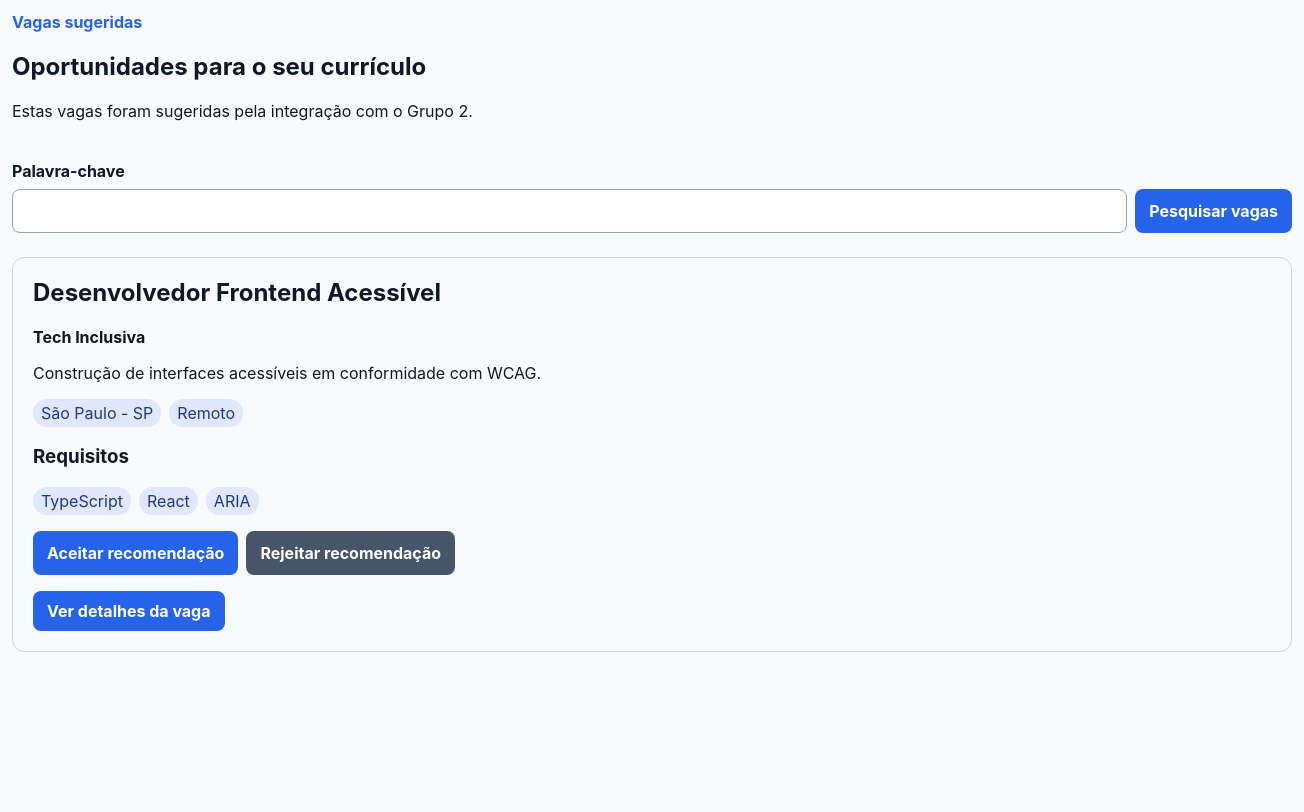
Test case: TelaVagasGrupo2 — Acessibilidade e Navegação por Teclado (a11y) › anuncia erro de salvamento de decisão com role=alert
This screenshot has width=1304, height=812.
Click the button "Rejeitar recomendação". click: coordinates (351, 553)
box: [246,531,455,575]
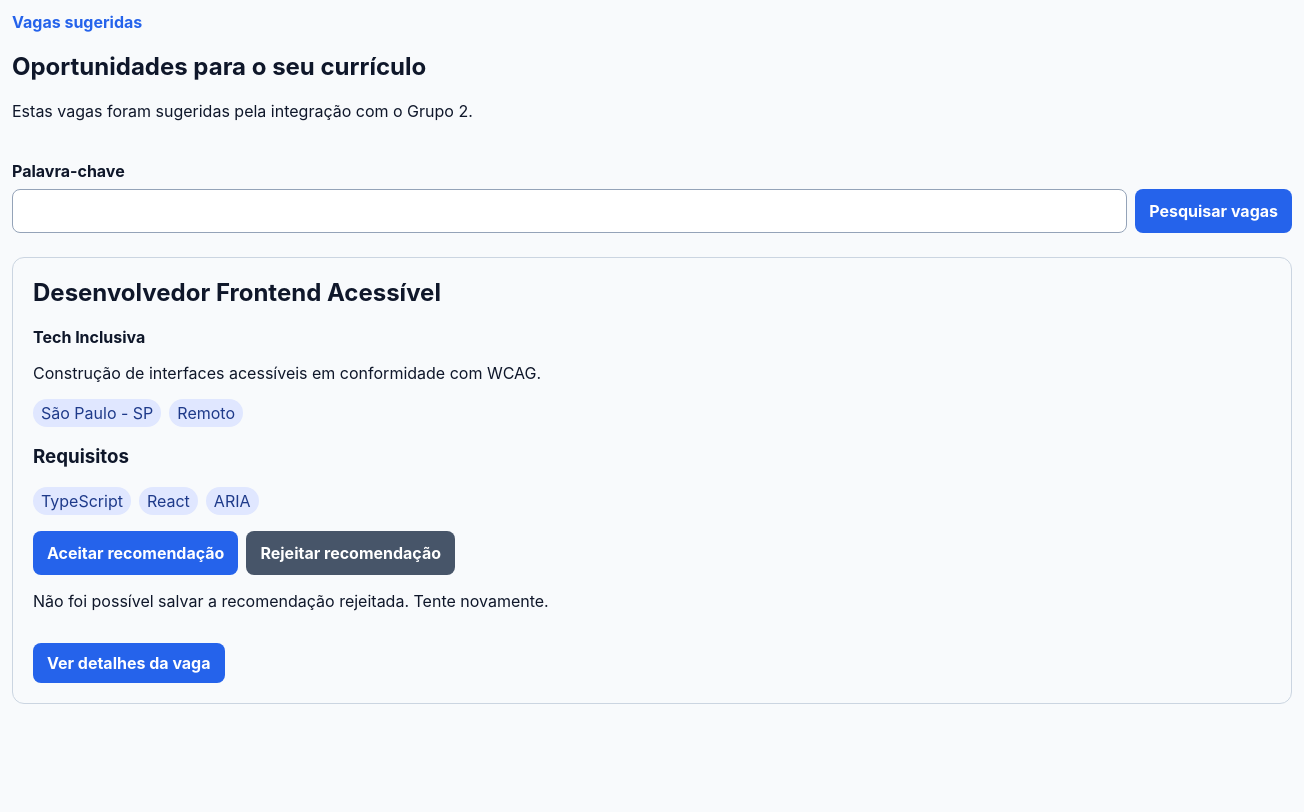
Expected: the message reads "Não foi possível salvar a recomendação rejeitada. Tente novamente.", [33,591,549,611]
